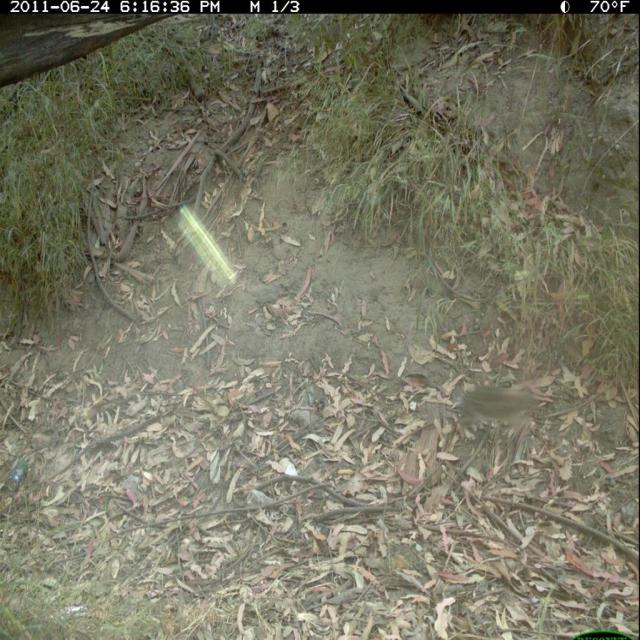rabbit: (453, 377, 541, 447)
